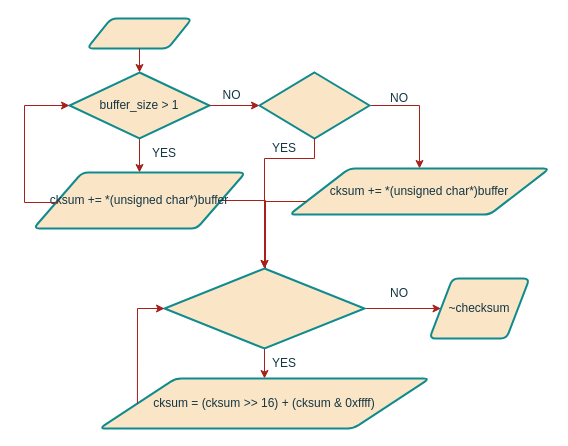
Image size: 568x446. Some labels were removed from this diagram. Here are the shapes that lost their labels. From the top down, the box of each, then its label:
(86, 17, 192, 49): buffer
(258, 71, 370, 139): buffer < 1
(163, 267, 365, 349): checksum >> 16
